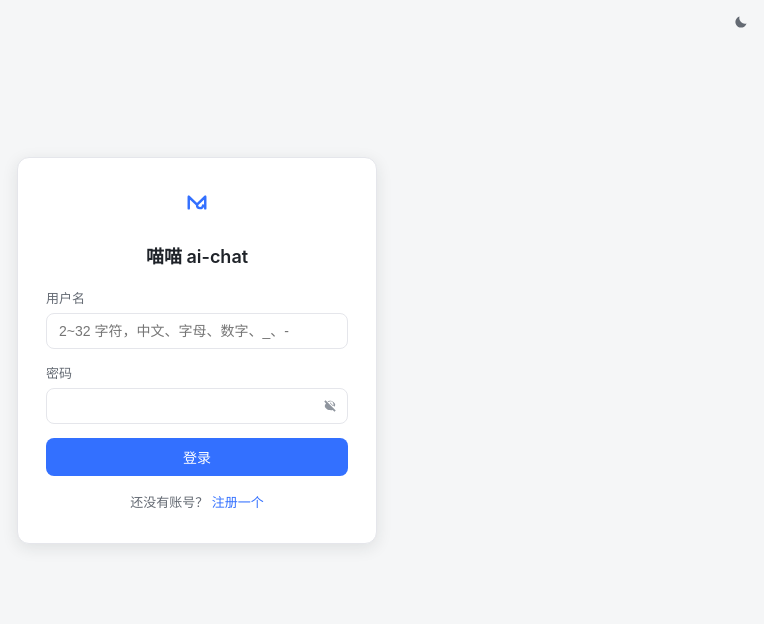
Test: 注册模式 › 用户名不合法：字段行内提示规则文案（与后端同口径）
This screenshot has width=764, height=624.
Click the button with class "switch-btn" at (238, 501), box [212,492,264,510]
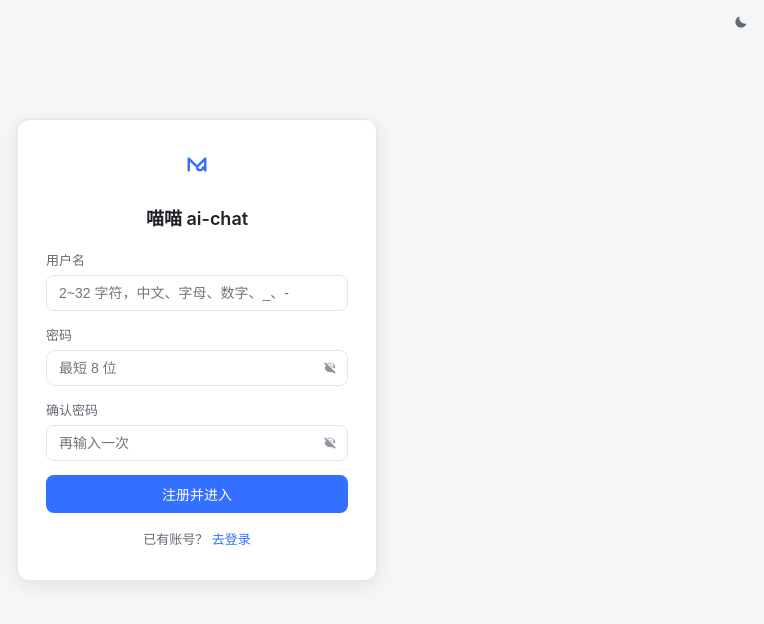
Type "bad@name" into the field labelled "用户名" at (197, 293), box [46,275,348,311]
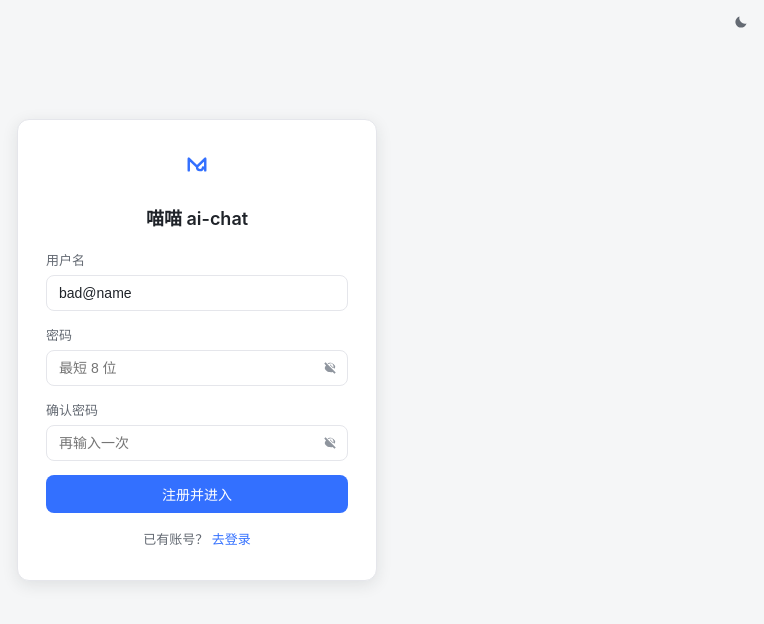
Type "password123" into the password field labelled "密码" at (197, 368), box [46,350,348,386]
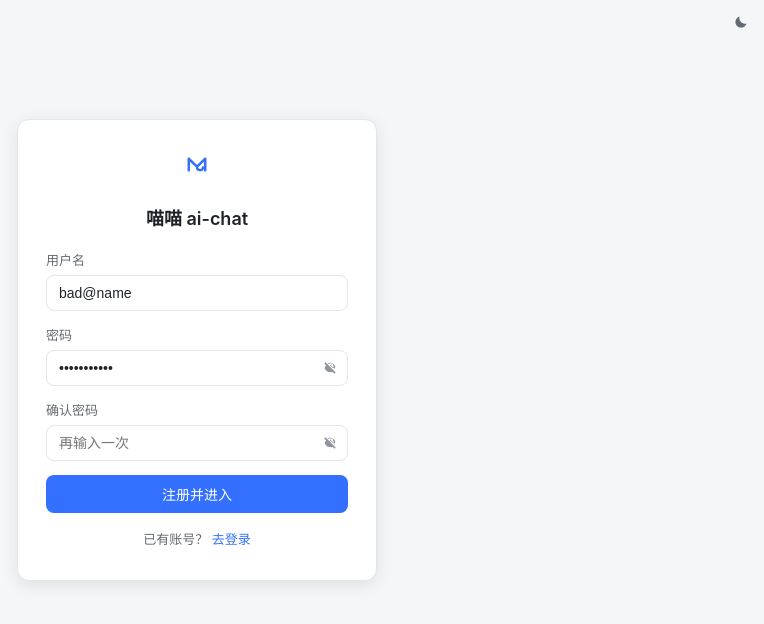
Type "password123" into the password field labelled "确认密码" at (197, 443), box [46,425,348,461]
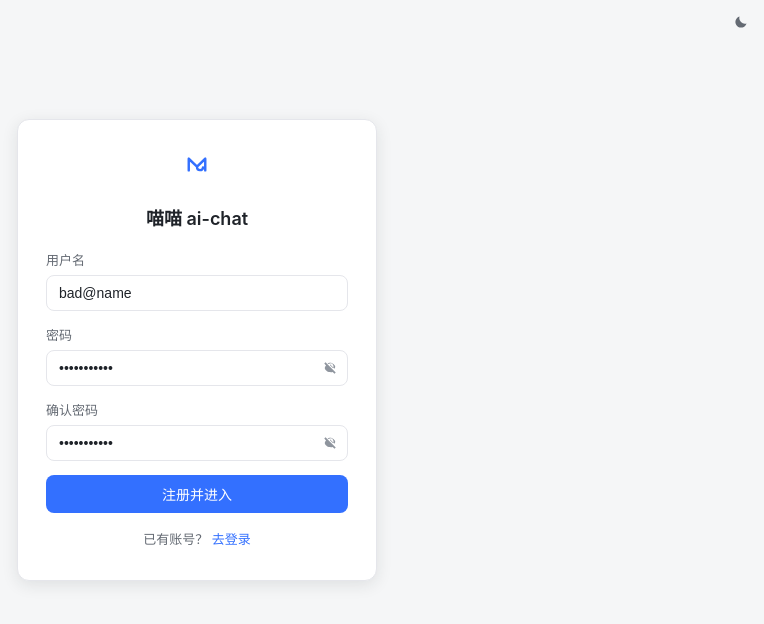
Submit the form, box [46,250,348,513]
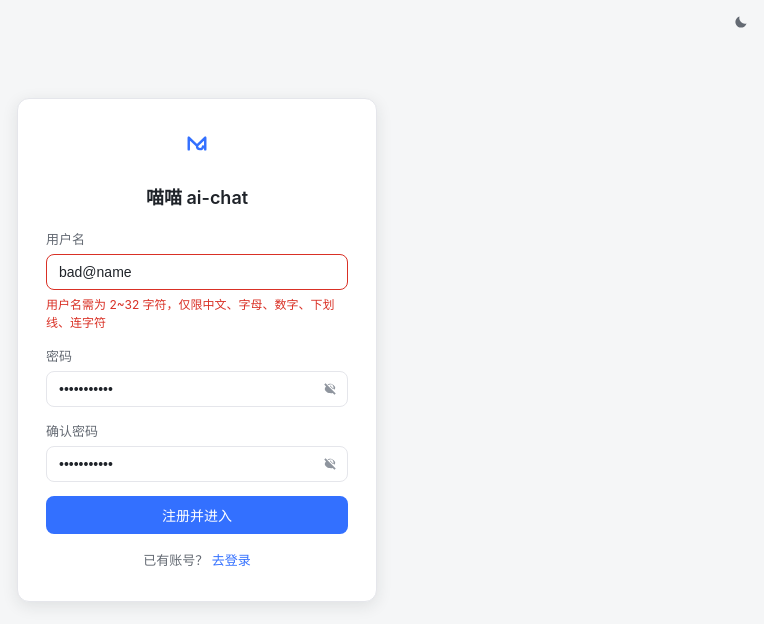
Expected: the text with class "field-error" shows "用户名需为 2~32 字符", [46,297,335,330]
